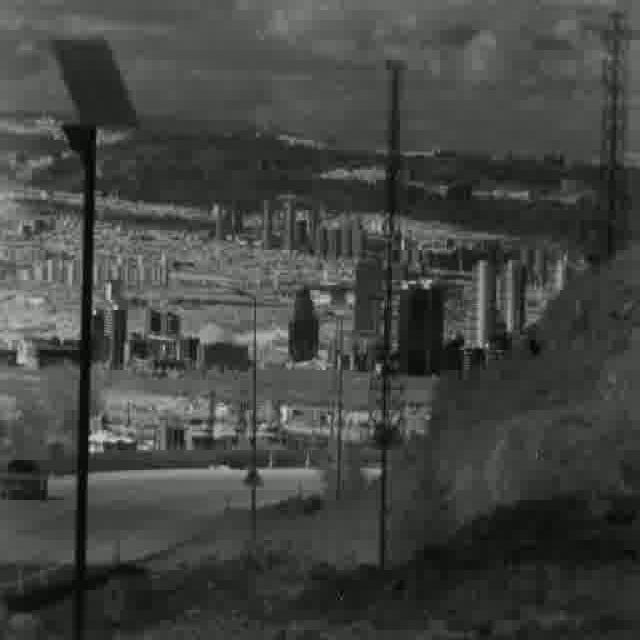Car: (0, 458, 48, 507)
